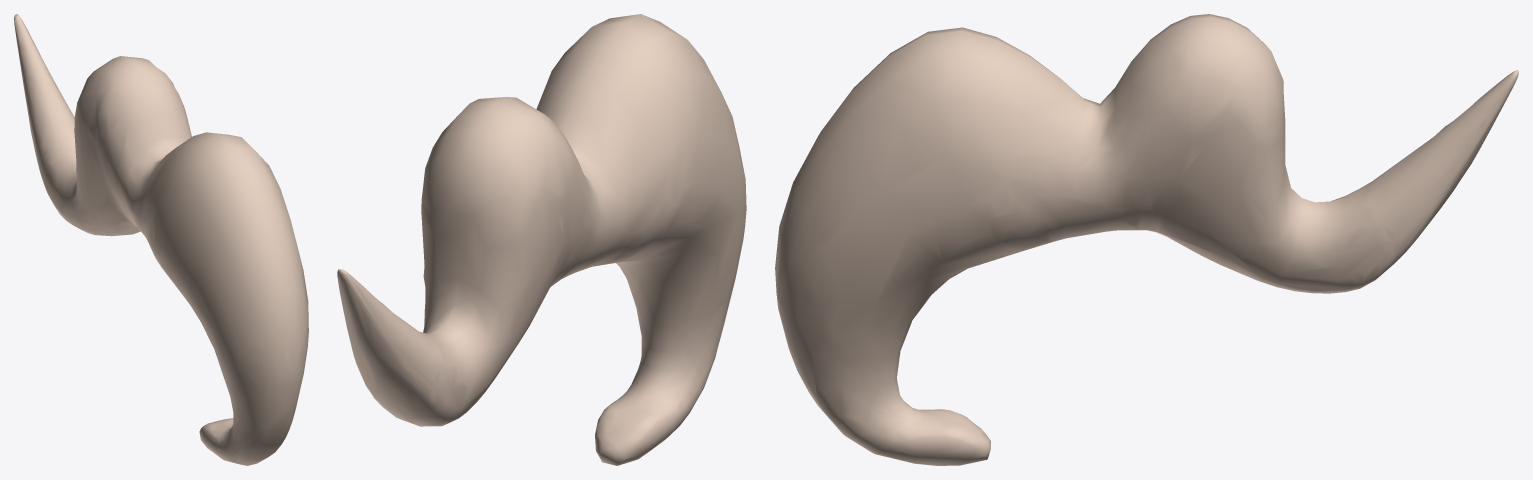
File: Mane_11.fbx
3 views of the same model, side by side, from view 1: azimuth 30°, elevation 25°; view 2: azimuth 150°, elevation 25°; view 3: azimuth 270°, elevation 25° (orthographic). The views are drawn at different scales.
Parts seen in each view (by area): view 1: Mane_11; view 2: Mane_11; view 3: Mane_11.
Part boxes in pixels (x1=…): Mane_11: x1=14, y1=14, x2=308, y2=465; Mane_11: x1=337, y1=14, x2=746, y2=465; Mane_11: x1=775, y1=14, x2=1518, y2=465.
Bounding box in the file's own units: 36.86 × 105 × 160.
